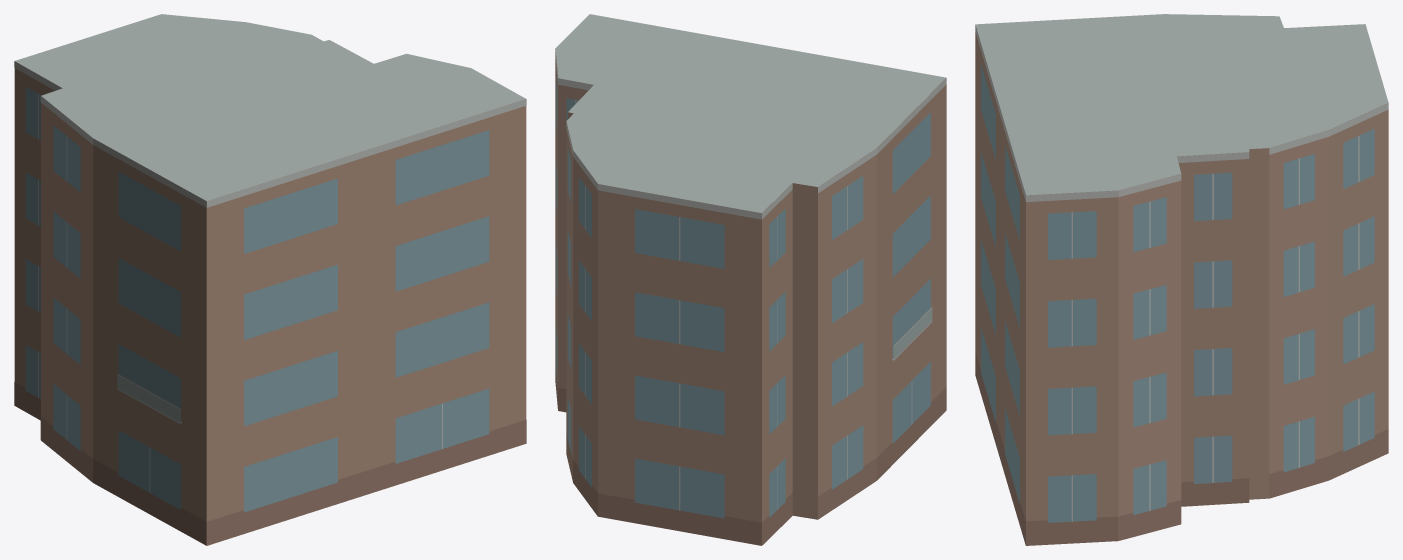
File: survey-upis-32941242.glb
3 views of the same model, side by side, from view 1: azimuth 30°, elevation 25°; view 2: azimuth 150°, elevation 25°; view 3: azimuth 270°, elevation 25° (orthographic). The views are drawn at different scales.
Parts seen in each view (by area): view 1: survey-upis-32941242.tmp; view 2: survey-upis-32941242.tmp; view 3: survey-upis-32941242.tmp.
Boxes of the visible parts, box(x1,y1,x2,y2) form: survey-upis-32941242.tmp: box(14, 14, 526, 545); survey-upis-32941242.tmp: box(555, 14, 946, 545); survey-upis-32941242.tmp: box(975, 14, 1388, 545).
Size of the model in its own units: 13.99 by 12.6 by 13.47.
